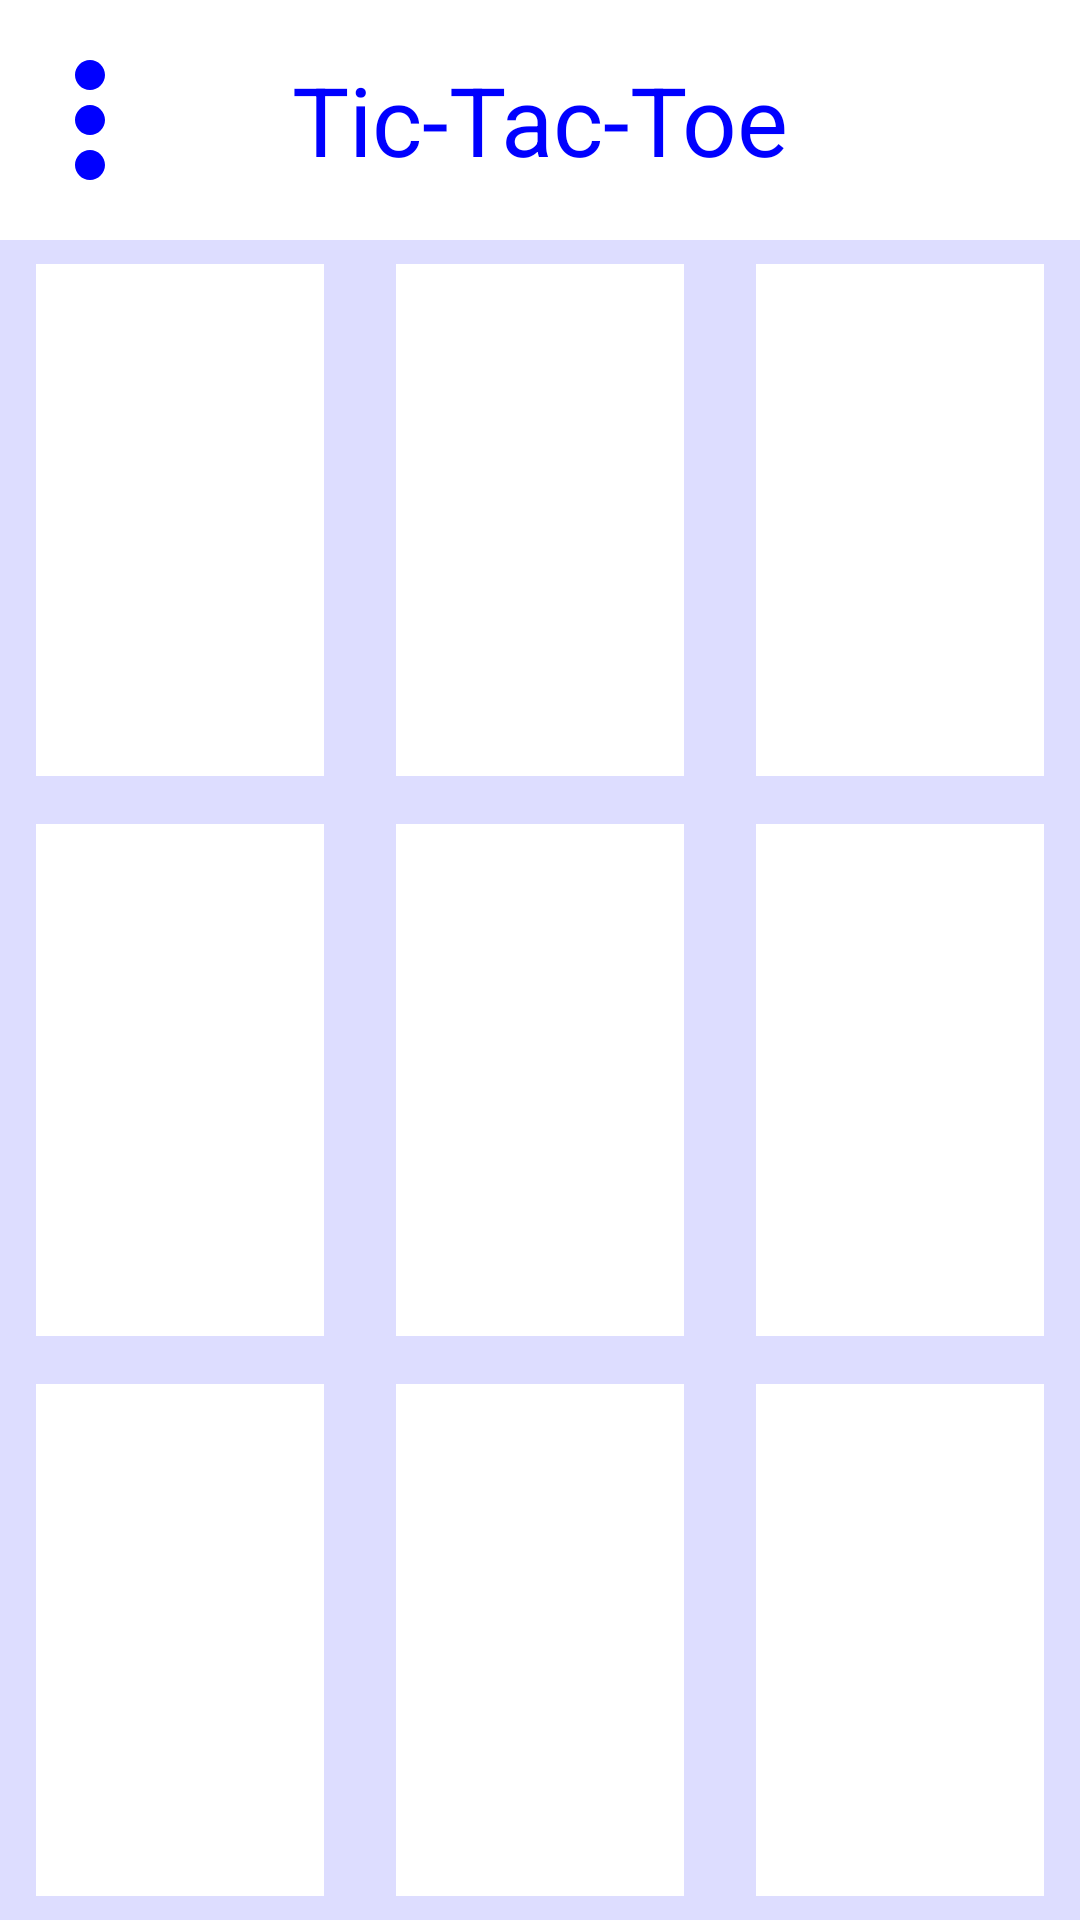

Point at icon controls on the screen. Image size 1080×1920, points as [x,y].
more: [90,120]
